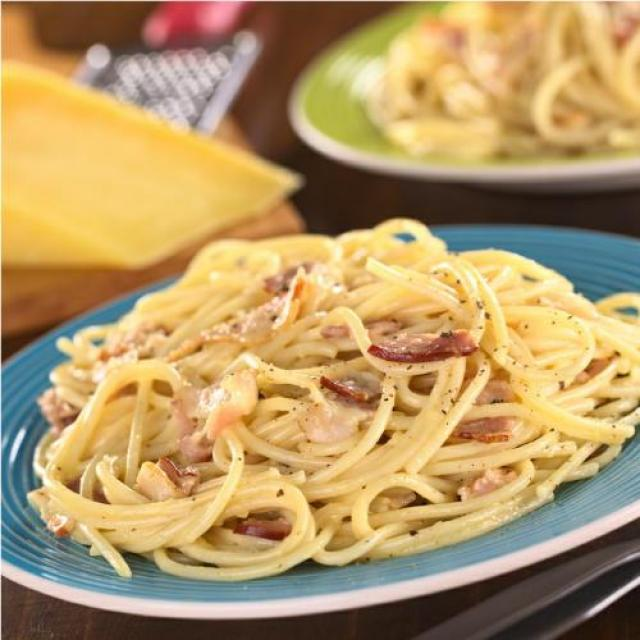Pasta with carbonara sauce: (48, 201, 640, 598)
